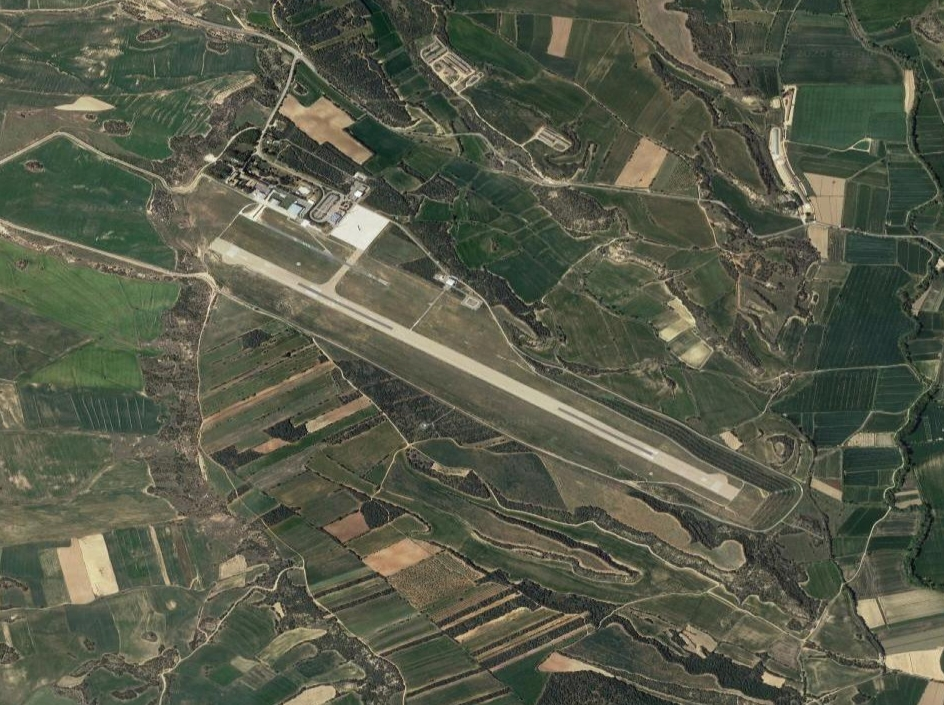airport: (206, 200, 743, 504)
motorway: (227, 26, 303, 61), (159, 1, 227, 29), (273, 61, 301, 114), (254, 115, 277, 154)
